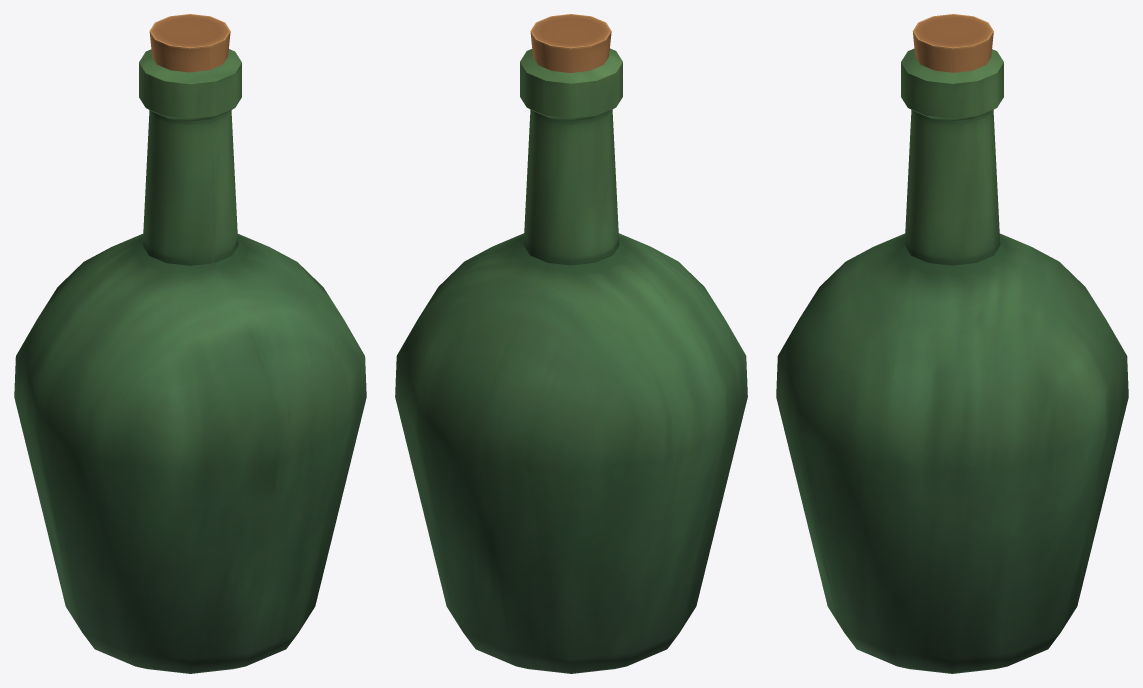
File: SM_Drink_Bottle_C_Green.fbx
3 views of the same model, side by side, from view 1: azimuth 30°, elevation 25°; view 2: azimuth 150°, elevation 25°; view 3: azimuth 270°, elevation 25° (orthographic).
Visible parts, largest first — view 1: SM_Drink_Bottle_C_Green_LOD0; view 2: SM_Drink_Bottle_C_Green_LOD0; view 3: SM_Drink_Bottle_C_Green_LOD0.
Boxes of the visible parts, left/top/right/bottom form: SM_Drink_Bottle_C_Green_LOD0: left=14, top=14, right=366, bottom=673; SM_Drink_Bottle_C_Green_LOD0: left=395, top=14, right=747, bottom=673; SM_Drink_Bottle_C_Green_LOD0: left=776, top=14, right=1128, bottom=673.
Size of the model in its own units: 13.24 by 13.24 by 25.11.
Materials: 1 (1 with a texture image).
